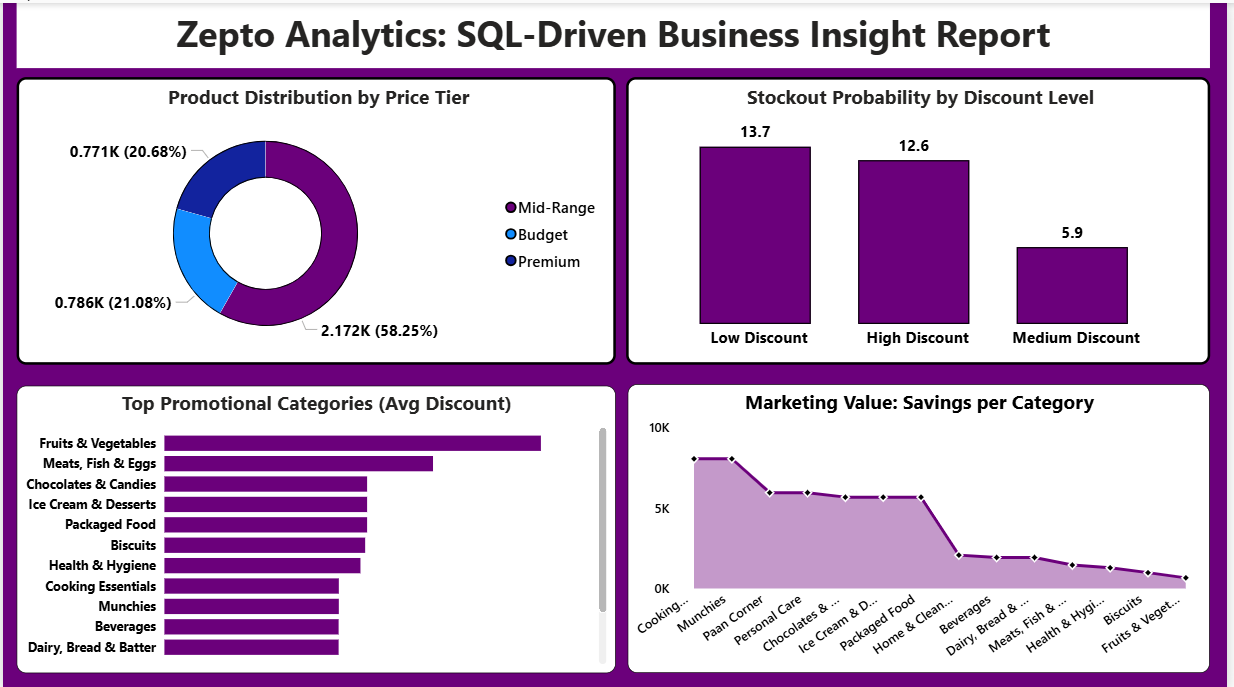

The dashboard page shown, as its layout file describes it:
{"tool":"powerbi","page":{"name":"Page 2","canvas":[1280,720],"ordinal":1},"visuals":[{"type":"donutChart","title":"Product Distribution by Price Tier","fields":{"Category":["fourth_query.price_tier"],"Y":["Sum(fourth_query.item_count)"]},"box":[14.2,77.5,626.5,300.6],"z":0},{"type":"columnChart","title":"Stockout Probability by Discount Level","fields":{"Category":["third_query.discount_type"],"Y":["Sum(third_query.stockout_percent)"]},"box":[651.8,77.5,610.7,300.6],"z":1000},{"type":"clusteredBarChart","title":"Top Promotional Categories (Avg Discount)","fields":{"Category":["sixth_query.category"],"Y":["Sum(sixth_query.avg_discount)"]},"box":[14.2,400.3,626.5,300.6],"z":2000},{"type":"stackedAreaChart","title":"Marketing Value: Savings per Category","fields":{"Category":["seventh_query.category"],"Y":["Sum(seventh_query.total_money_saved)"]},"box":[653.4,398.7,609.1,302.2],"z":2001},{"type":"textbox","box":[14.2,0,1248.3,68],"z":2002}]}

Visuals, with their boxes in screenshot pixels (x1, y1, x2, y2), scaled from the page's 1280x720 canvas onto the 1234x687 screenshot:
"Product Distribution by Price Tier" donutChart: region(14, 74, 618, 361)
"Stockout Probability by Discount Level" columnChart: region(628, 74, 1217, 361)
"Top Promotional Categories (Avg Discount)" clusteredBarChart: region(14, 382, 618, 669)
"Marketing Value: Savings per Category" stackedAreaChart: region(630, 380, 1217, 669)
textbox: region(14, 0, 1217, 65)
